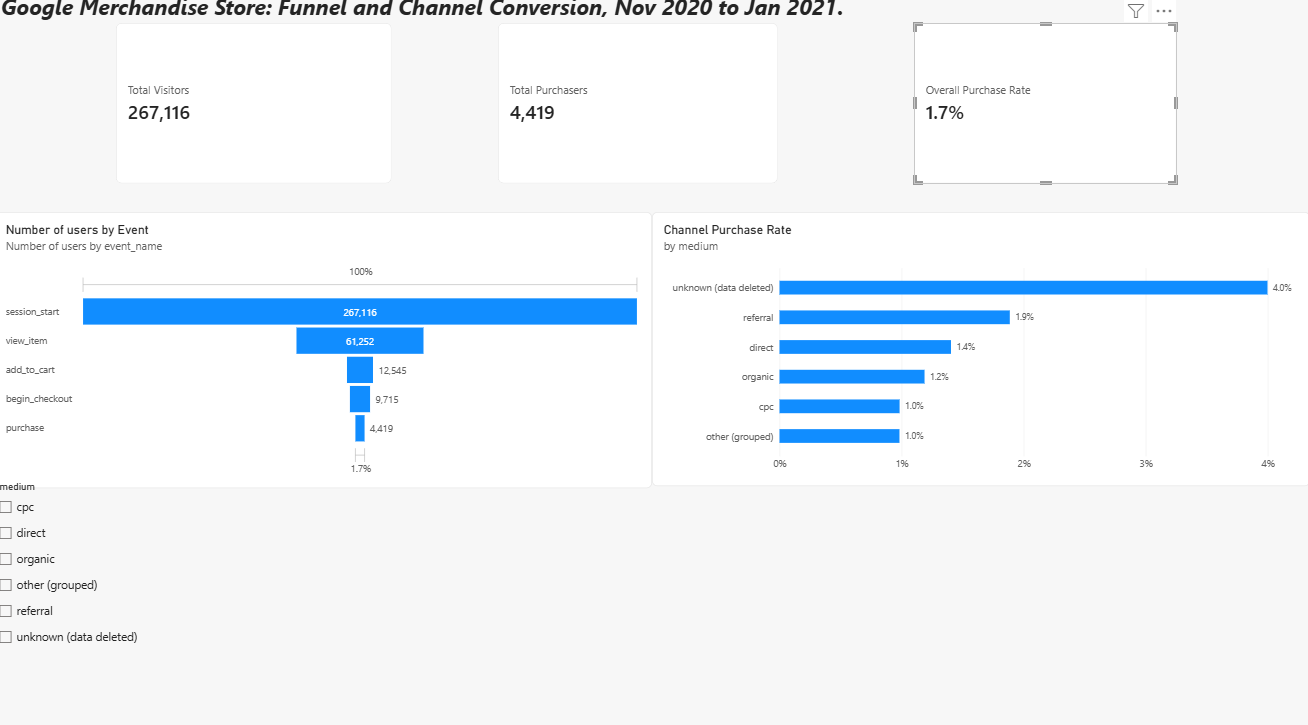

What the dashboard file says about the page in this screenshot:
{"tool":"powerbi","page":{"name":"Page 1","canvas":[1920,1080],"ordinal":0},"visuals":[{"type":"textbox","box":[10.2,0,1332,46.7],"z":0},{"type":"cardVisual","fields":{"Data":["funnel_clean.Total Visitors"]},"box":[189.7,46.7,261.2,234.9],"z":1},{"type":"cardVisual","fields":{"Data":["funnel_clean.Total Purchasers"]},"box":[806.8,46.7,261,235],"z":2},{"type":"cardVisual","fields":{"Data":["funnel_clean.Overall Purchase Rate"]},"box":[1342.2,46.7,261,235],"z":3},{"type":"funnel","title":"Number of users by Event","fields":{"Category":["funnel_clean.event_name"],"Y":["Sum(funnel_clean.users)"]},"box":[0,322.4,960,402.7],"z":4},{"type":"clusteredBarChart","fields":{"Category":["channels_clean.medium"],"Y":["channels_clean.Channel Purchase Rate"]},"box":[960,322.4,960,399.8],"z":5},{"type":"slicer","fields":{"Values":["channels_clean.medium"]},"box":[0,714.9,1920,364.7],"z":6}]}

Visuals, with their boxes in screenshot pixels (x1, y1, x2, y2), scaled from the page's 1920x1080 canvas onto the 1308x725 screenshot:
textbox: 7,0,914,31
cardVisual - funnel_clean.Total Visitors: 129,31,307,189
cardVisual - funnel_clean.Total Purchasers: 550,31,727,189
cardVisual - funnel_clean.Overall Purchase Rate: 914,31,1092,189
"Number of users by Event" funnel: 0,216,654,487
clusteredBarChart - channels_clean.medium x channels_clean.Channel Purchase Rate: 654,216,1307,485
slicer - channels_clean.medium: 0,480,1307,724
